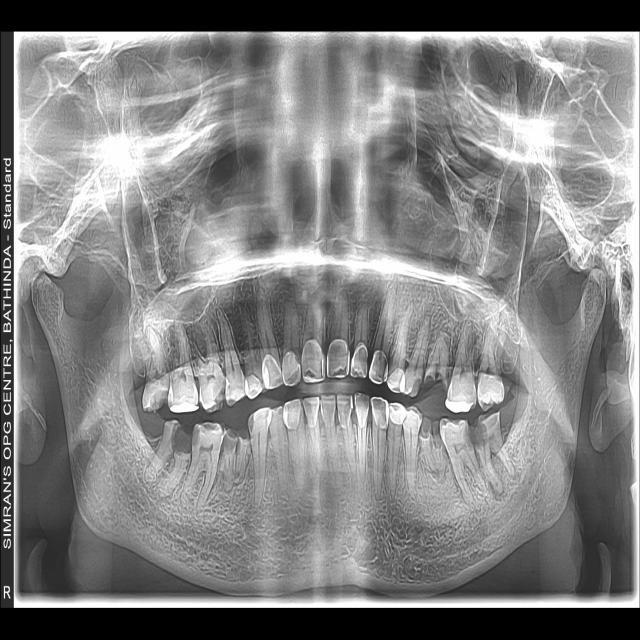Caries: (144, 384, 168, 414), (171, 421, 191, 456), (206, 379, 226, 413), (475, 417, 489, 450), (463, 421, 473, 451), (408, 378, 421, 398), (199, 422, 219, 433), (303, 369, 323, 380), (486, 414, 498, 430), (192, 425, 200, 448), (333, 365, 347, 377), (248, 414, 254, 434), (351, 368, 363, 376), (227, 398, 236, 408), (226, 385, 231, 396), (227, 377, 231, 383)
Filling: (445, 398, 474, 413), (170, 402, 199, 413)
Periapical lesion: (489, 477, 504, 501), (144, 465, 156, 486), (460, 490, 474, 506), (504, 461, 516, 479), (158, 489, 175, 500), (253, 497, 262, 514), (390, 489, 396, 501)
Root Piece: (419, 417, 449, 482), (424, 331, 450, 388), (219, 429, 238, 492), (235, 436, 251, 483)
